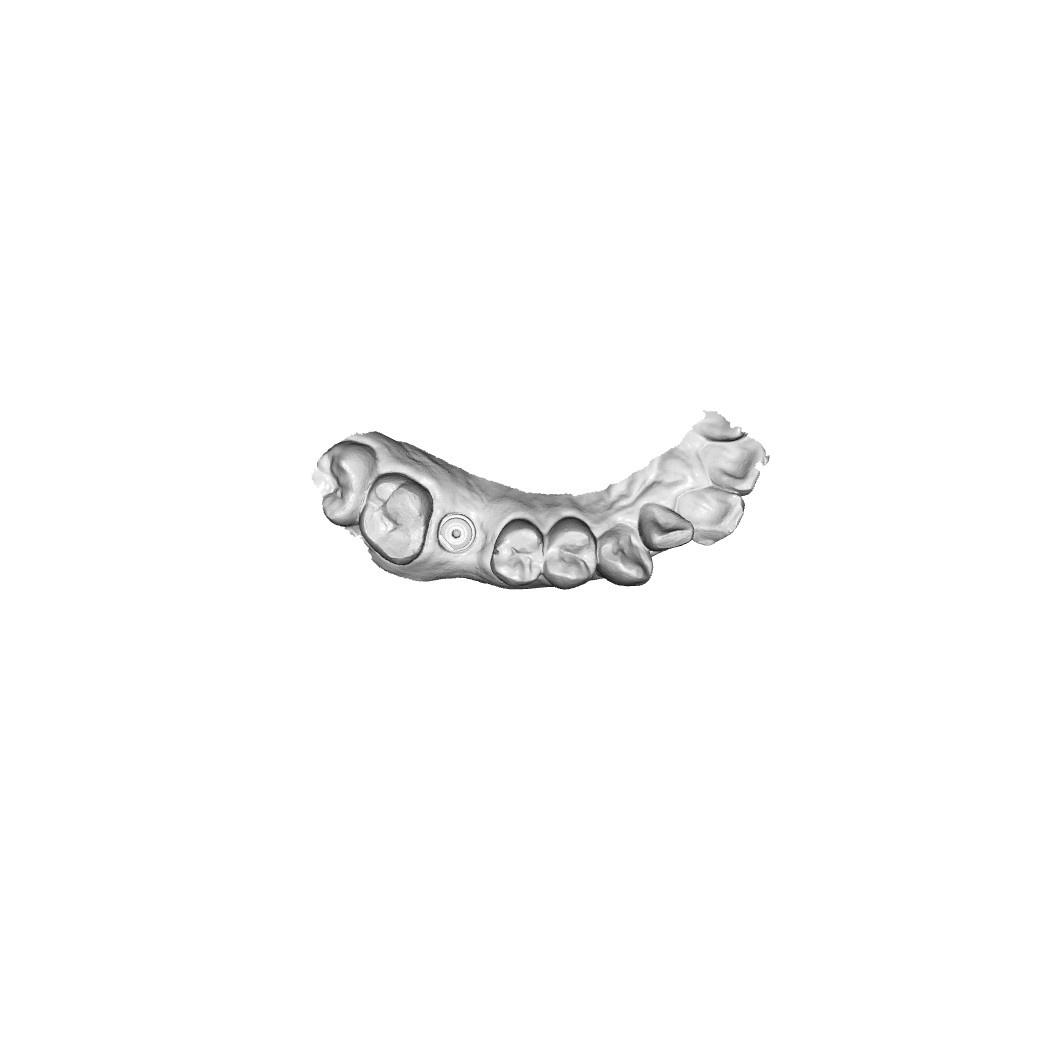canine: (595, 522, 669, 601)
implant: (441, 515, 477, 557)
incisor: (685, 486, 747, 548), (710, 436, 768, 495), (639, 501, 694, 551)
molar: (358, 474, 432, 566)
premolar: (489, 513, 547, 590), (541, 515, 589, 582)
